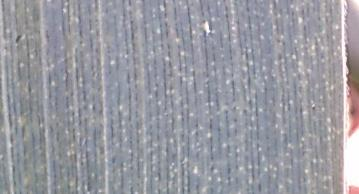tarspot: (12, 32, 29, 50)
